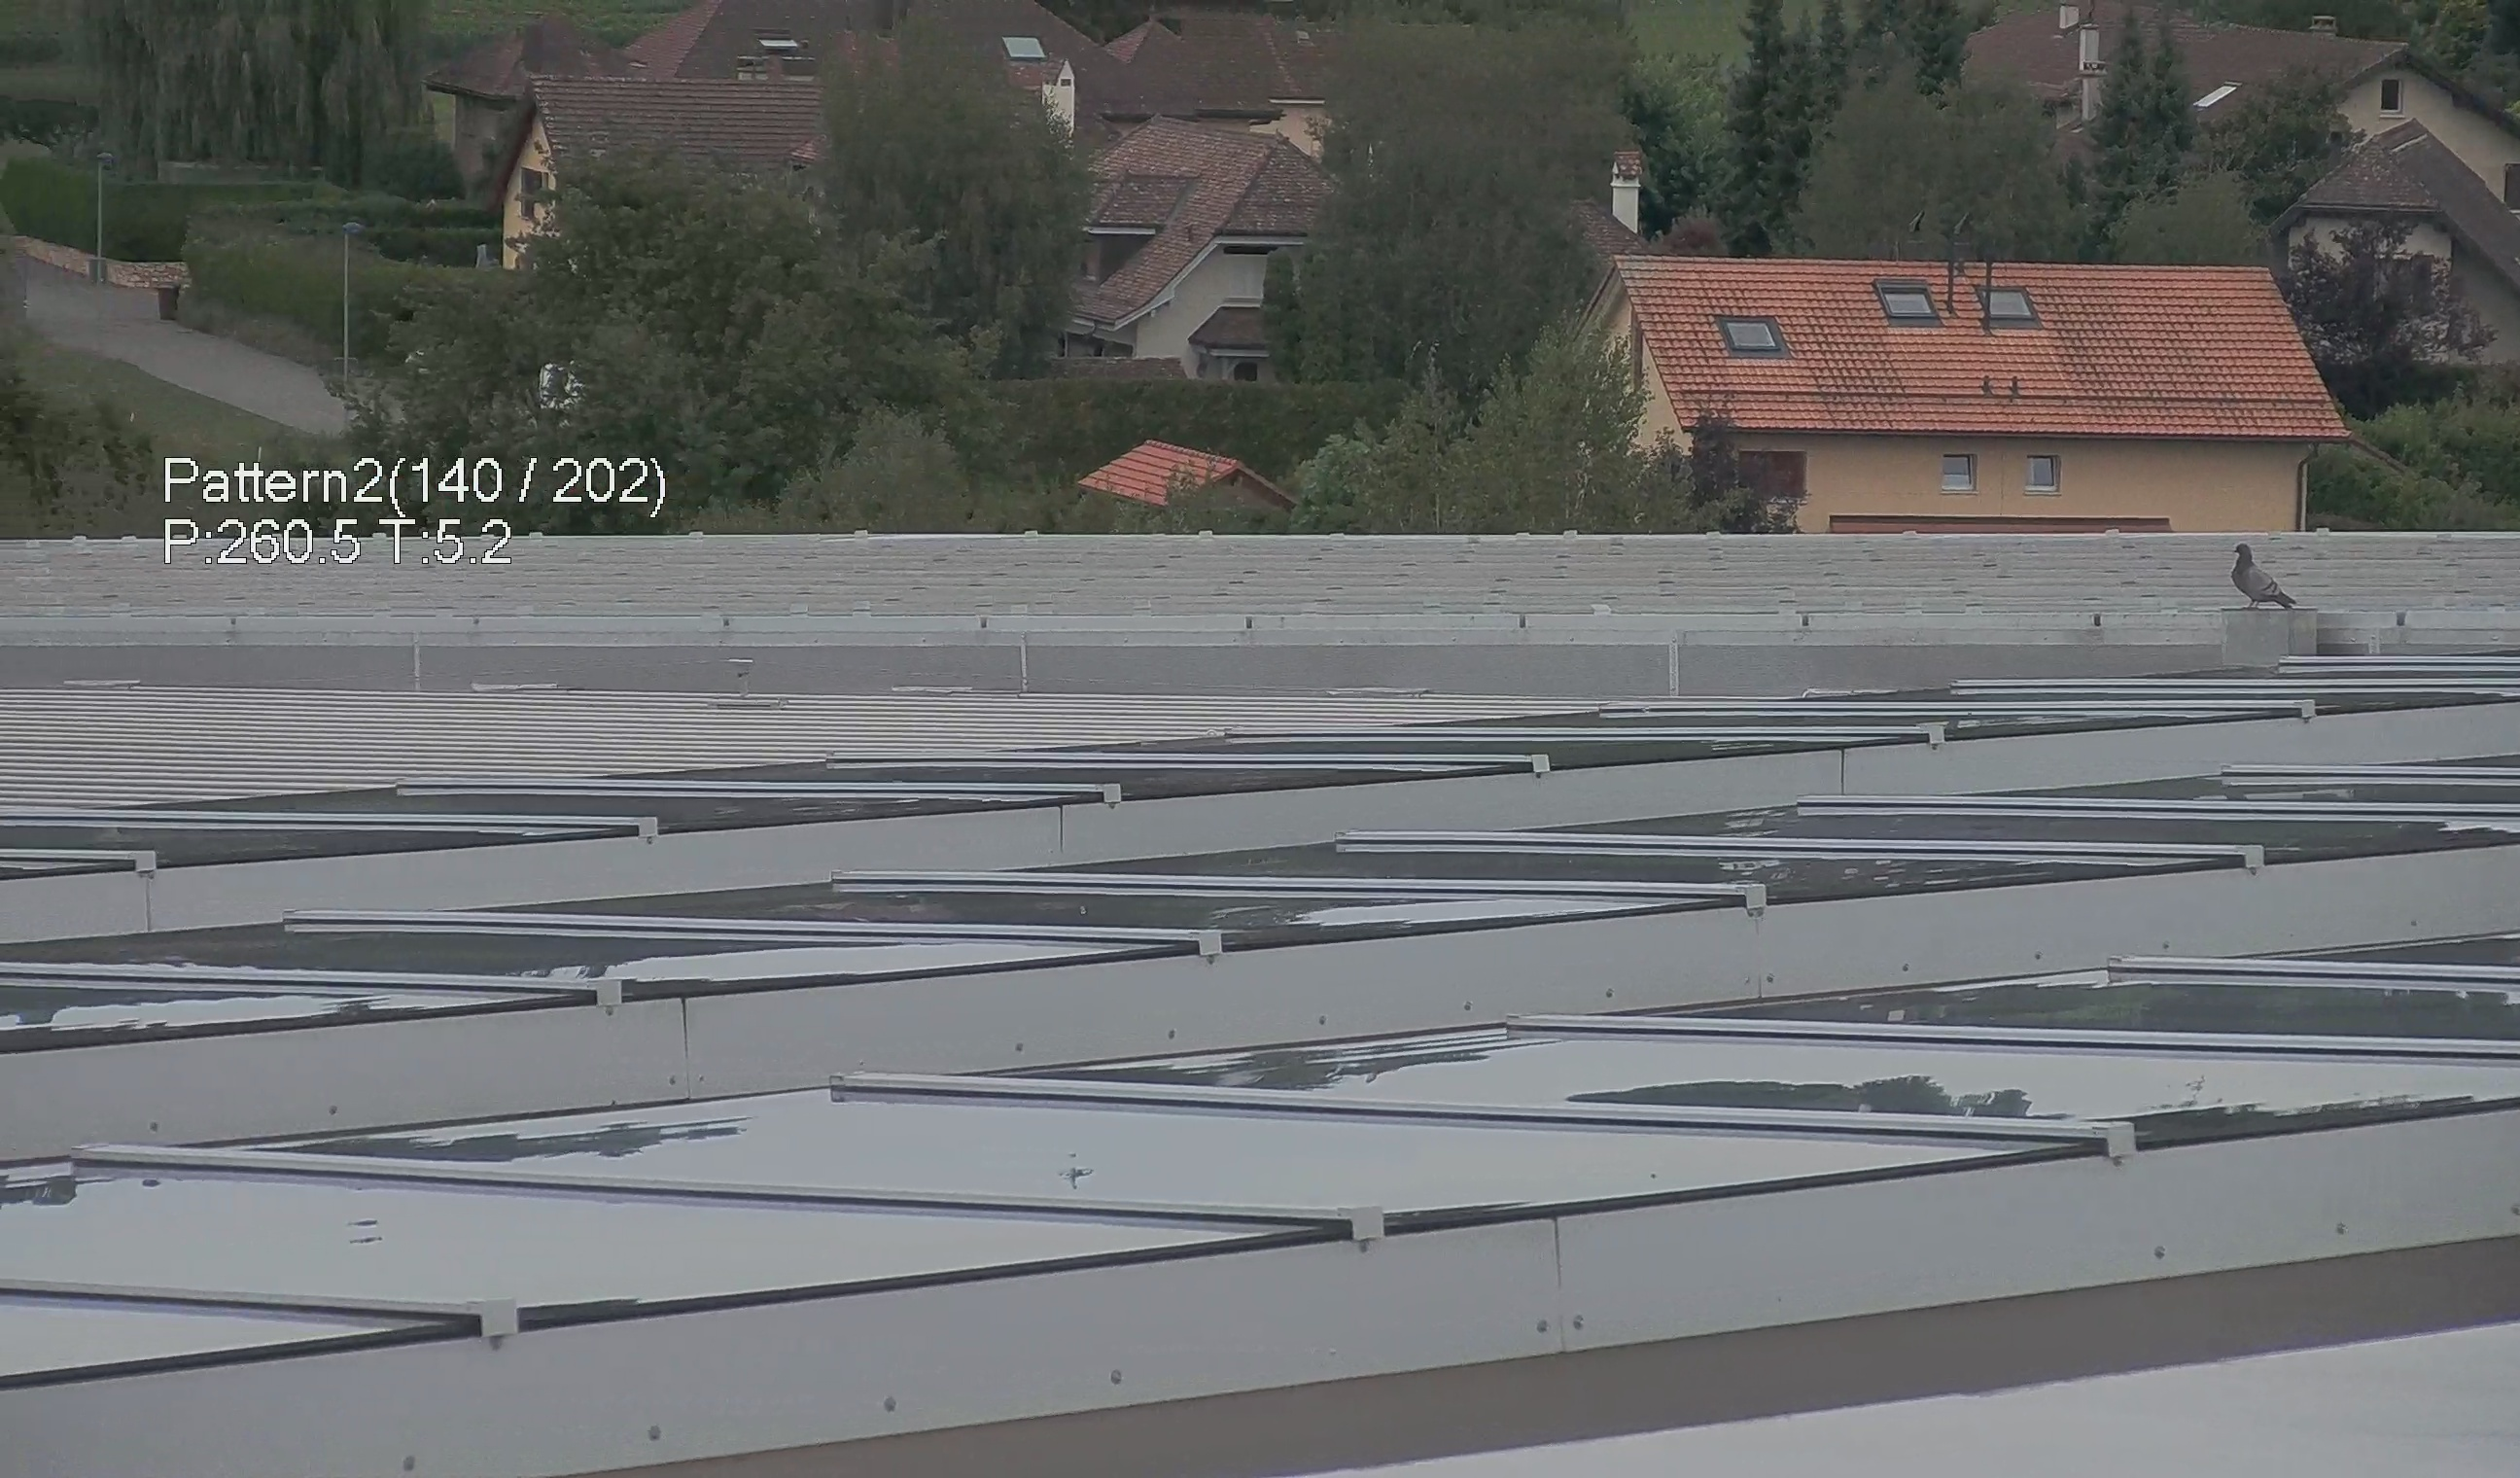Pigeon: (2230, 533, 2314, 618)
